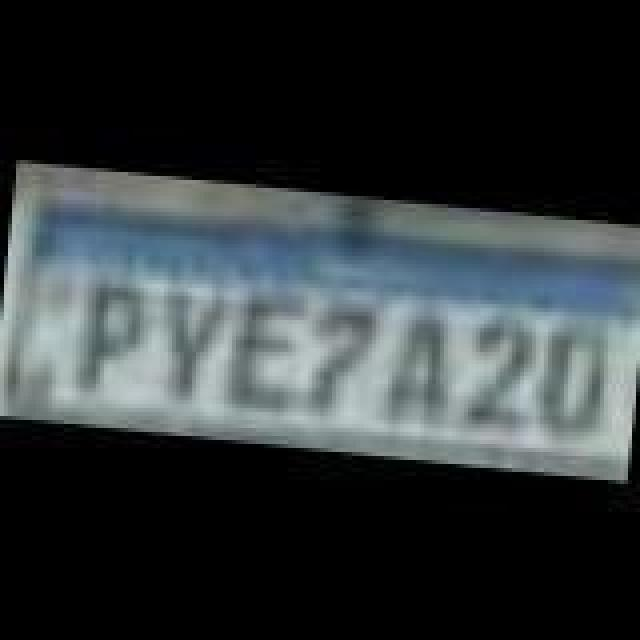2: (448, 312, 544, 440)
7: (292, 298, 380, 422)
A: (378, 304, 462, 432)
D: (532, 318, 620, 442)
E: (224, 288, 304, 416)
P: (76, 280, 148, 400)
Y: (152, 282, 232, 406)
